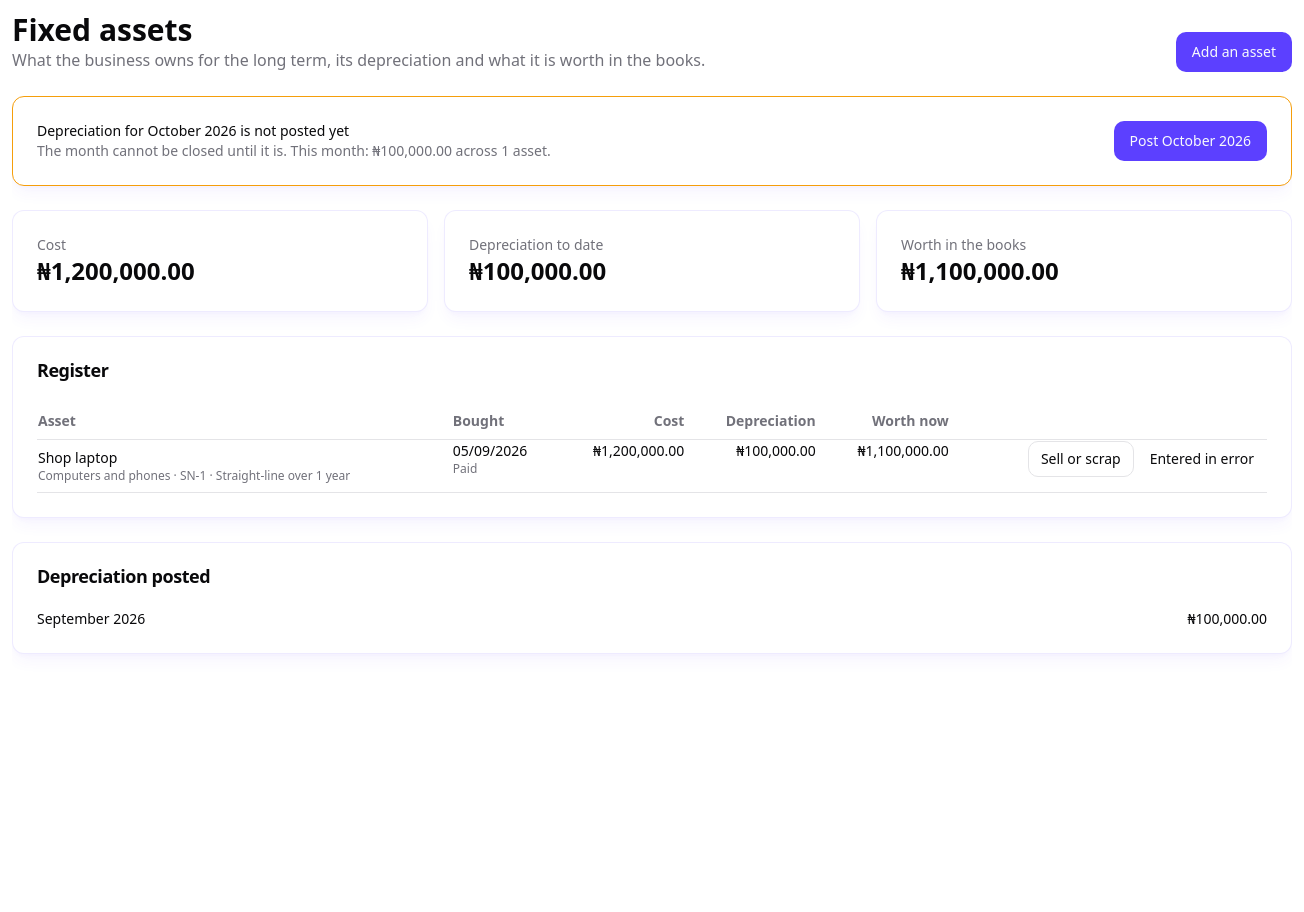
Scenario: the register shows each asset, and the month waiting for depreciation is posted from the banner
The width and height of the screenshot is (1304, 912).
Expected: the text "Shop laptop" is shown, [38,448,117,467]
Expected: the text "Depreciation for October 2026 is not posted yet" is shown, [37,121,349,140]
Click the button "Post October 2026": click(1190, 141) [1114,121,1267,161]
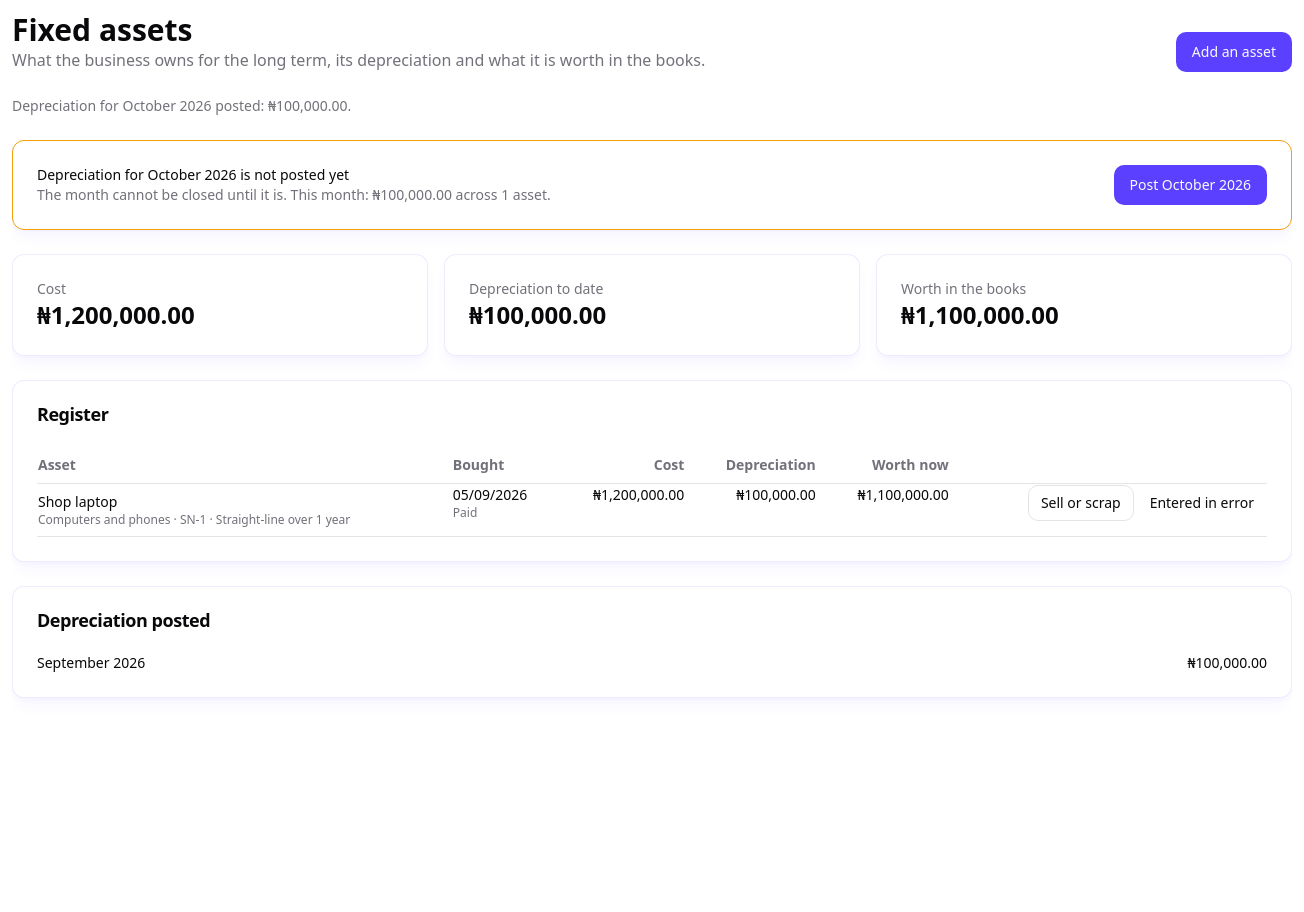
Result: the message reads "Depreciation for October 2026 posted: ₦100,000.00." at [12,96,351,115]
